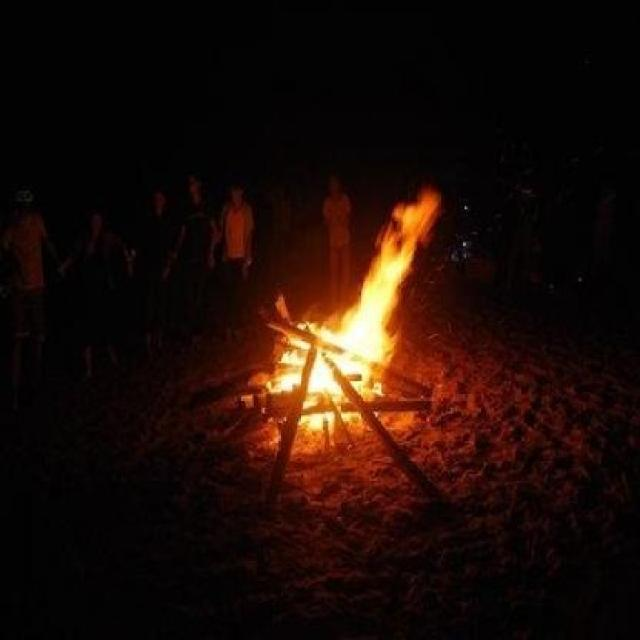Fire: (266, 193, 433, 432)
